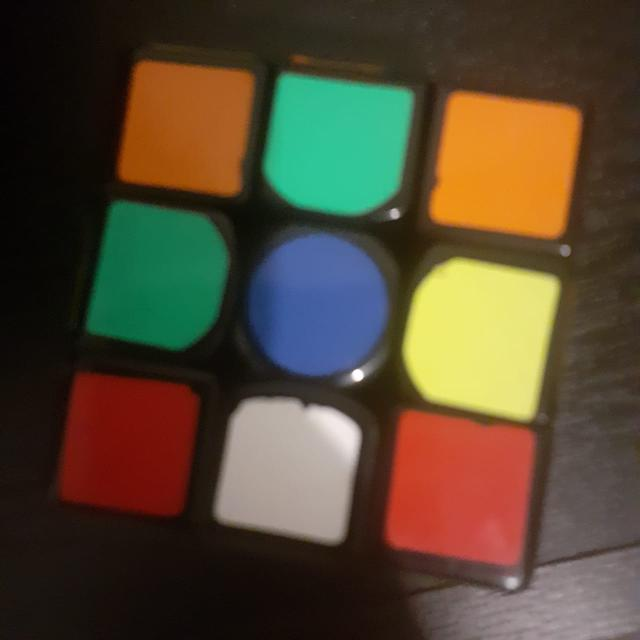Blue: (239, 226, 389, 378)
Green: (269, 73, 407, 217), (97, 214, 221, 342)
Orange: (439, 85, 573, 242), (127, 60, 250, 194)
Red: (395, 421, 529, 567), (62, 380, 195, 512)
White: (220, 400, 362, 550)
Yellow: (410, 258, 550, 416)
